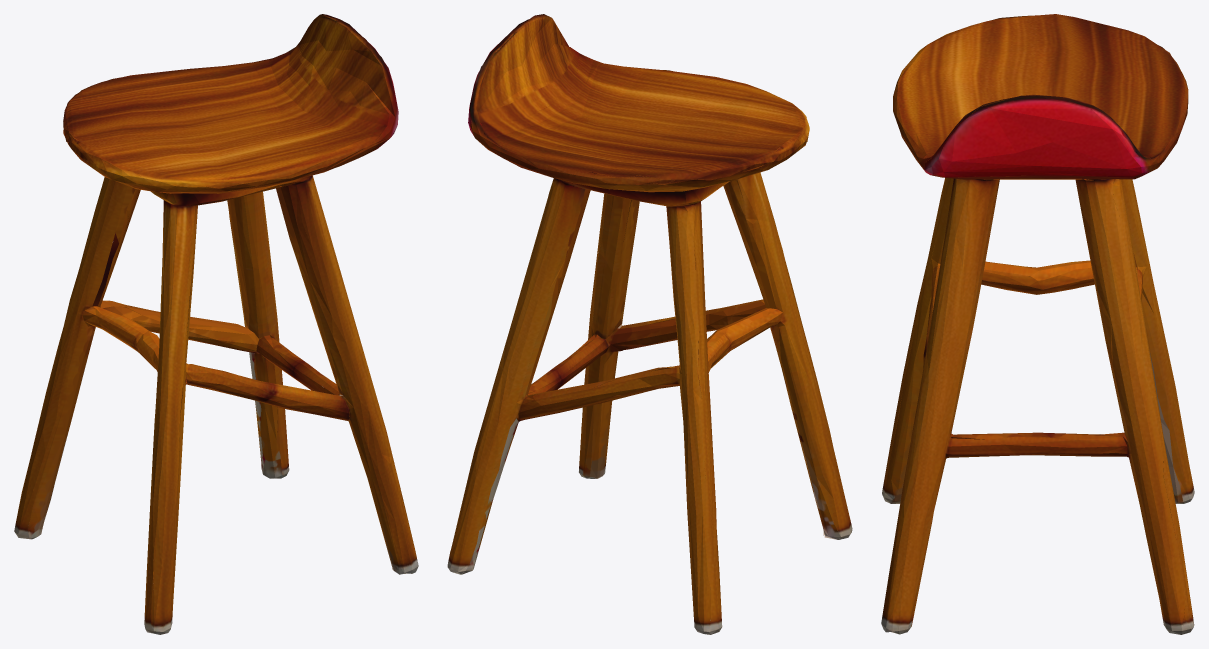
Rendered from stool-hy3d.glb.
3 renders of one model, left to right at view 1: azimuth 30°, elevation 25°; view 2: azimuth 150°, elevation 25°; view 3: azimuth 270°, elevation 25°, orthographic. The views are drawn at different scales.
Parts seen in each view (by area): view 1: temp_mesh.ply; view 2: temp_mesh.ply; view 3: temp_mesh.ply.
Boxes of the visible parts, x1,y1,x2,y2 form: temp_mesh.ply: (14,14,418,634); temp_mesh.ply: (447,14,852,634); temp_mesh.ply: (881,14,1194,634).
Bounding box in the file's own units: 1.17 × 2 × 1.05.
Materials: 1 (1 with a texture image).
